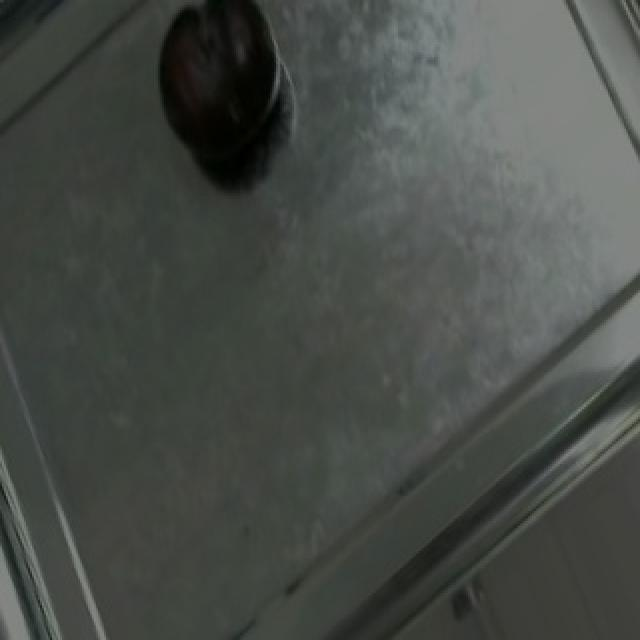Fruit: (140, 0, 296, 181)
